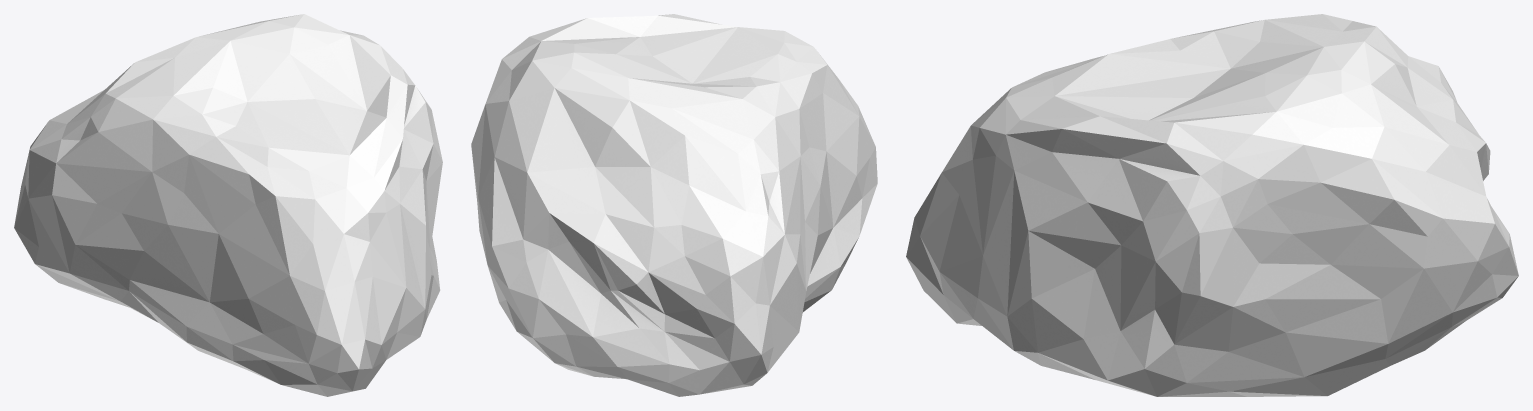
File: rock-3.glb
3 views of the same model, side by side, from view 1: azimuth 30°, elevation 25°; view 2: azimuth 150°, elevation 25°; view 3: azimuth 270°, elevation 25° (orthographic). The views are drawn at different scales.
Visible parts, largest first — view 1: skp6C0; view 2: skp6C0; view 3: skp6C0.
Part boxes in pixels (<box>): skp6C0: <box>14,14,442,396</box>; skp6C0: <box>471,14,877,396</box>; skp6C0: <box>906,14,1518,396</box>.
Bounding box in the file's own units: 0.8254 × 0.6324 × 1.11.
Materials: 1 (1 with a texture image).
